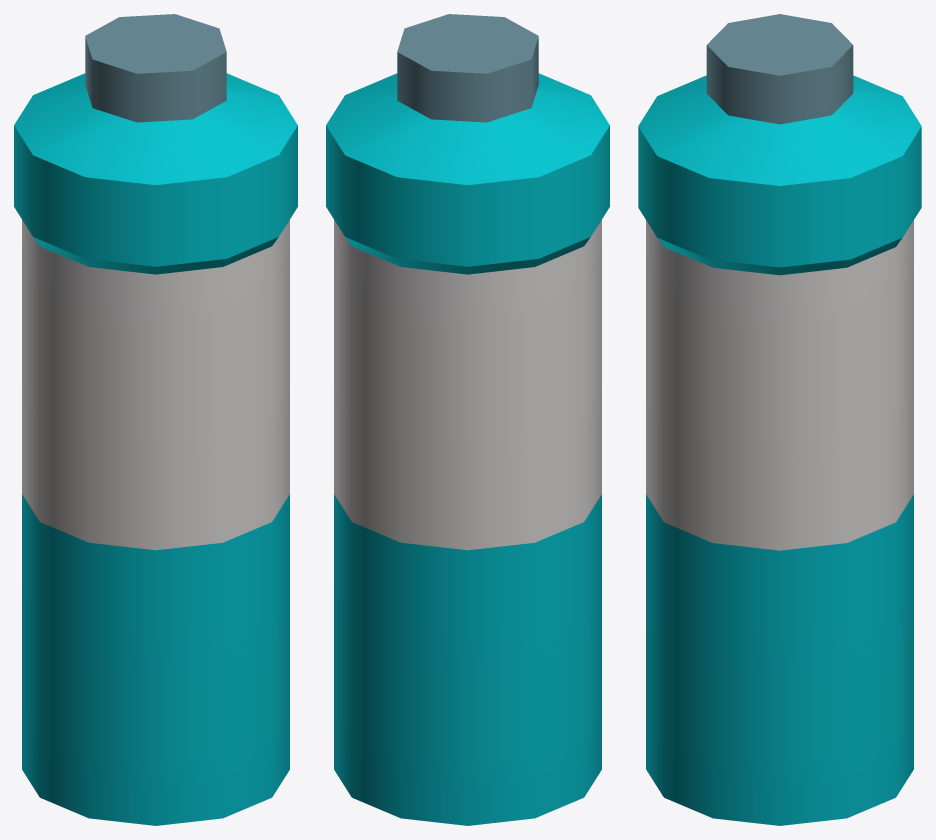
File: Pfb_JLAB_Bottle__4.fbx
3 views of the same model, side by side, from view 1: azimuth 30°, elevation 25°; view 2: azimuth 150°, elevation 25°; view 3: azimuth 270°, elevation 25° (orthographic).
Parts seen in each view (by area): view 1: Color; view 2: Color; view 3: Color.
Boxes of the visible parts, bbox=[...] form: Color: bbox=[14, 14, 297, 825]; Color: bbox=[326, 14, 609, 825]; Color: bbox=[638, 14, 921, 825].
Size of the model in its own units: 0.1099 by 0.3097 by 0.1099.
Materials: 1 (1 with a texture image).
